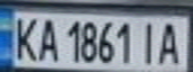1: (60, 17, 81, 63), (115, 18, 136, 64)
6: (97, 18, 118, 64)
8: (78, 17, 100, 63)
A: (154, 18, 187, 65), (33, 15, 60, 63)
I: (136, 18, 163, 65)
K: (9, 14, 42, 62)
